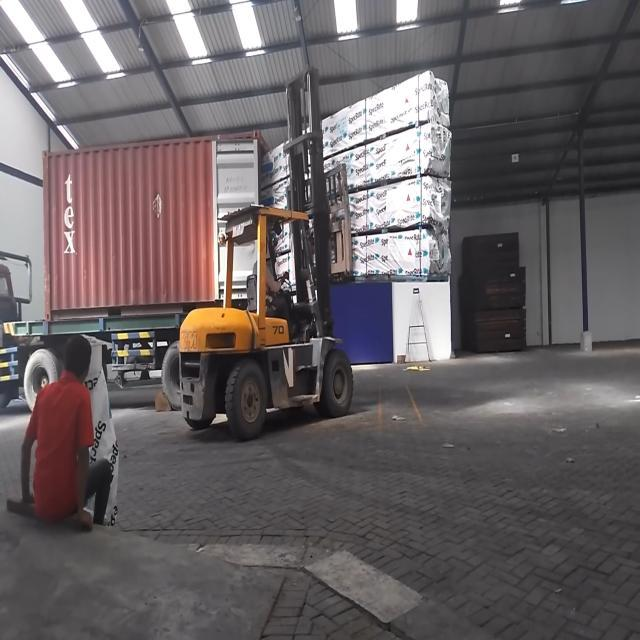forklift: (177, 191, 356, 442)
person: (22, 339, 112, 527)
